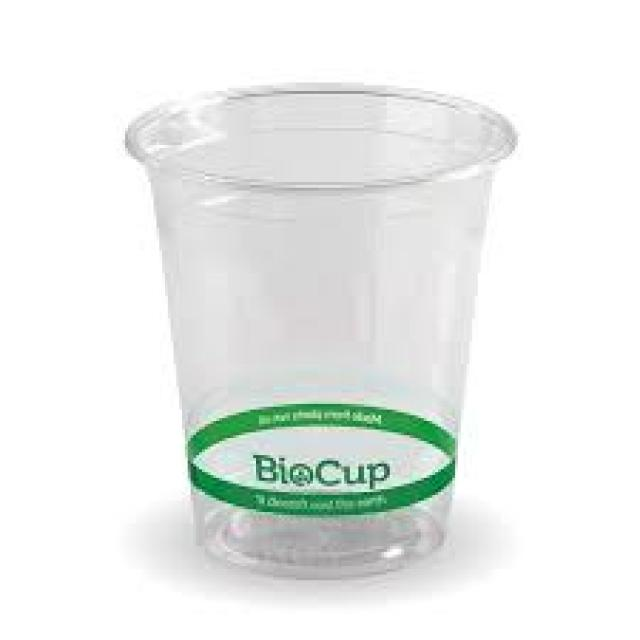cup: (116, 55, 515, 598)
